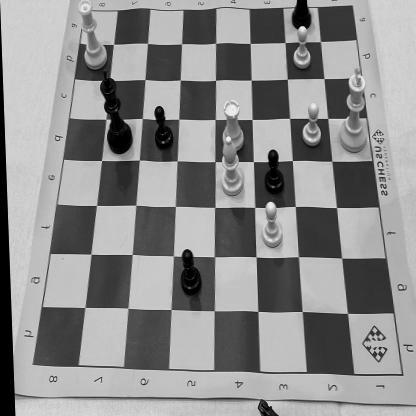black-king: (96, 66, 137, 159)
black-pawn: (148, 102, 176, 152), (174, 245, 200, 298), (260, 144, 286, 196)
black-rook: (288, 0, 316, 34)
white-bishop: (215, 134, 244, 202)
white-king: (332, 62, 372, 158)
white-pawn: (287, 20, 315, 72), (256, 198, 284, 249), (298, 96, 324, 150)
white-queen: (74, 0, 112, 74)
white-rook: (214, 94, 248, 156)
